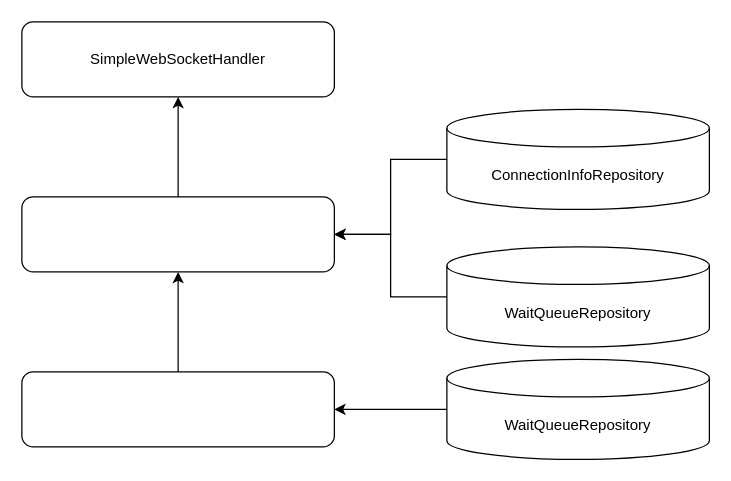
Image size: 731x481. Some labels were removed from this diagram. The shapes that lost their labels are listed below. From the top down, each one's centre as x and y in pixels, then its label:
[177,234]: MatchManager
[177,409]: WebsocketManager
